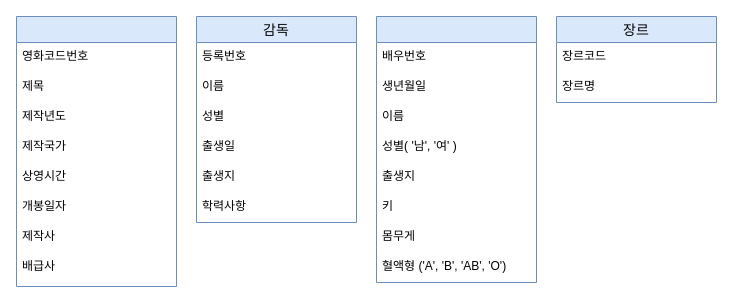
Image size: 733x303. Some labels were removed from this diagram. The shapes that lost their labels are listed below. From the top down, each one's box as (x1, y1, x2, y2) in pixels, then its label:
(16, 16, 176, 286): 영화
(376, 16, 536, 282): 배우
